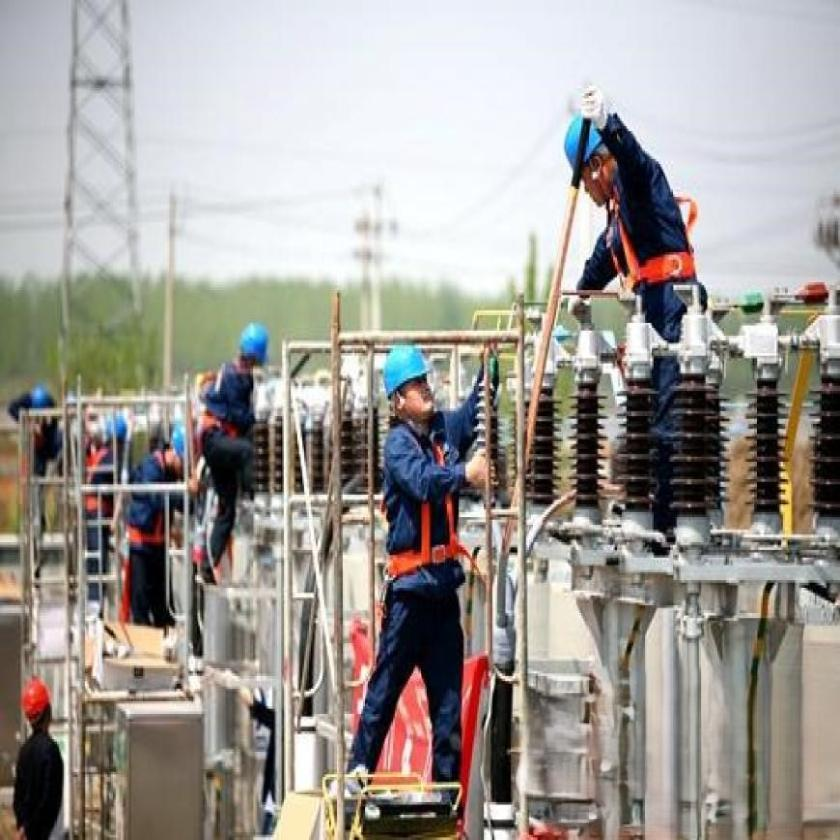Con_casco: (561, 103, 621, 222), (376, 339, 442, 437), (240, 316, 272, 386)
